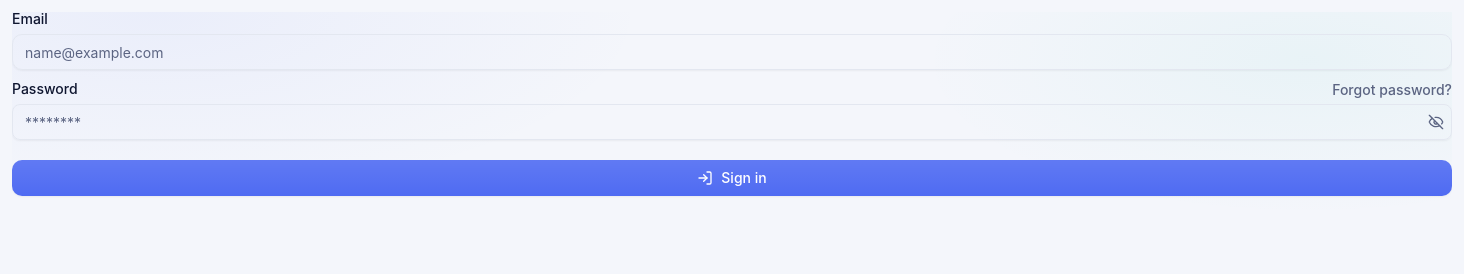
Test: UserAuthForm › shows the customer-account alert and never sets a session on 403
The image size is (1464, 274).
In the field labelled "Email": [732, 52] box x1=12 y1=34 x2=1452 y2=70, type "cust@b.com"
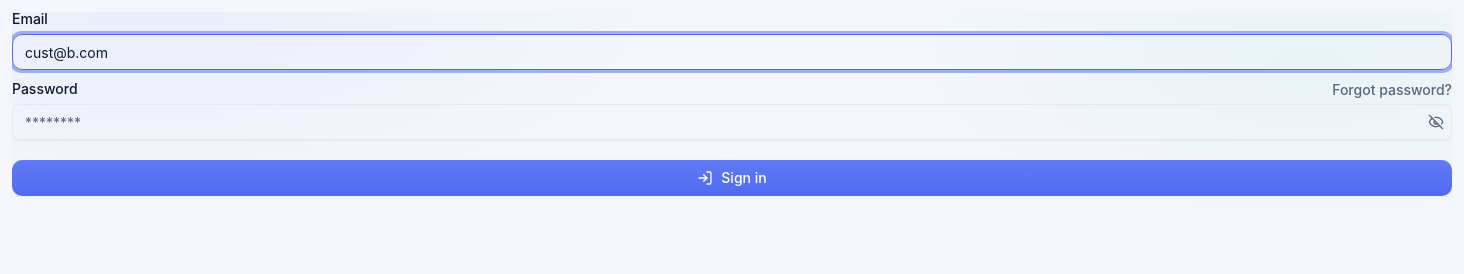
In the password field labelled "Password": [732, 122] box x1=12 y1=104 x2=1452 y2=140, type "1234567"
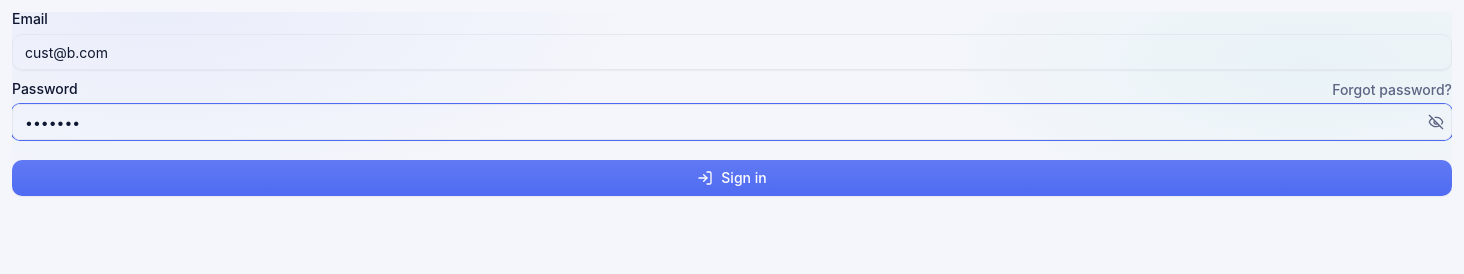
Click the button "Sign in": [732, 178] box x1=12 y1=160 x2=1452 y2=196
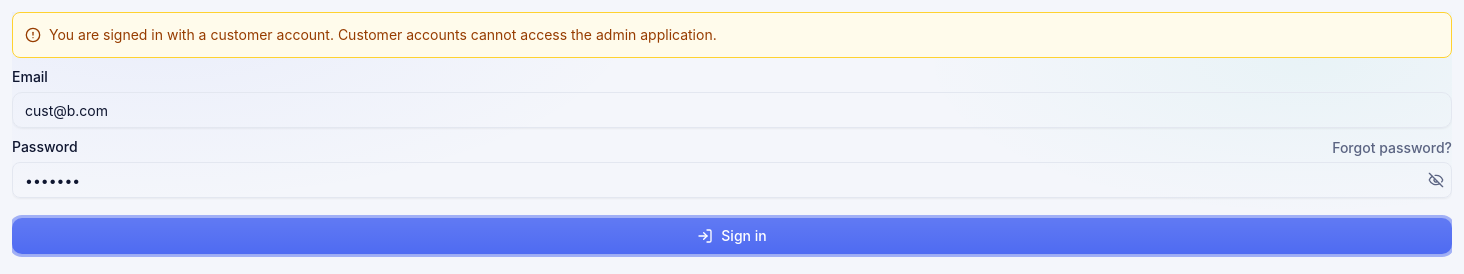
Expected: the text "Customer accounts cannot access the admin application" is shown, x1=49 y1=26 x2=717 y2=43
